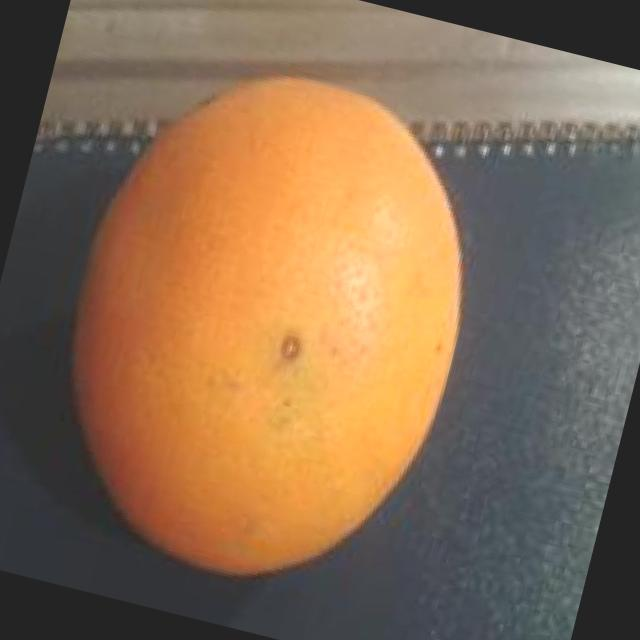Orange: (21, 35, 512, 618)
